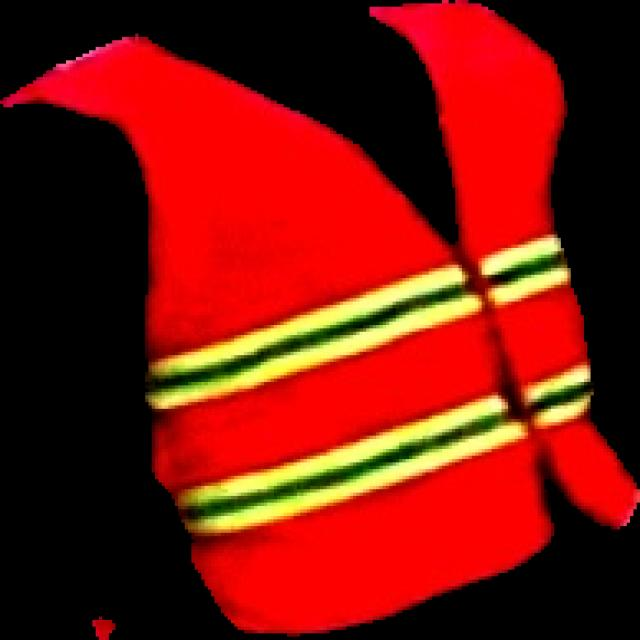Colete: (0, 0, 639, 636)
